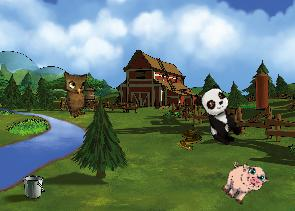owl: (58, 66, 98, 119)
panda: (191, 82, 248, 149)
pig: (216, 154, 271, 210)
